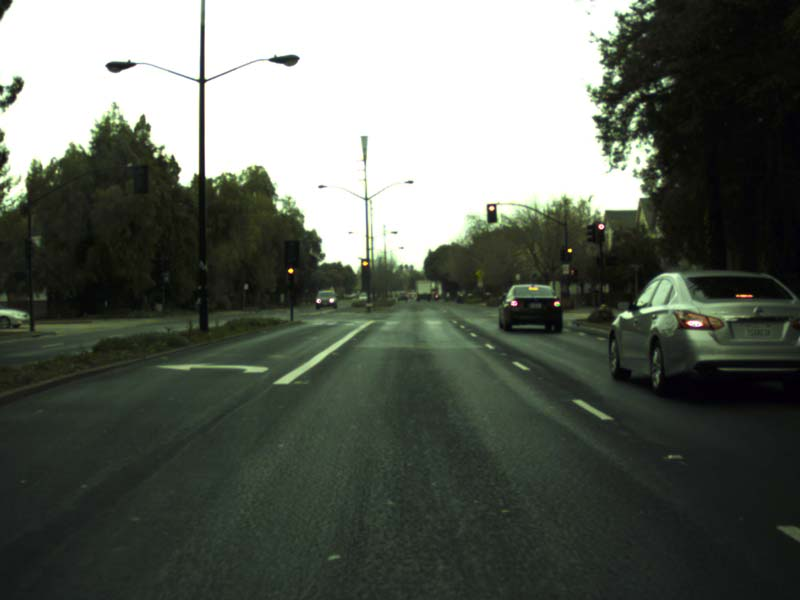Red: (486, 203, 497, 221), (361, 258, 370, 279), (287, 267, 295, 288), (596, 223, 604, 241), (567, 248, 572, 260)
